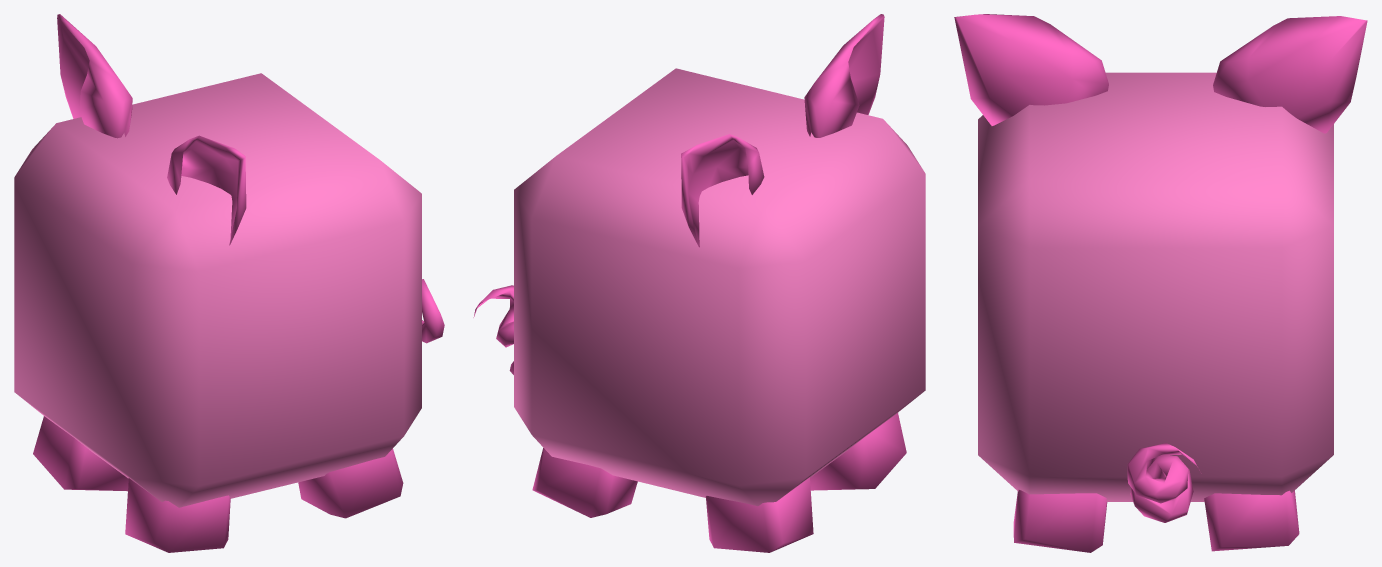
Rendered from PiggyLOW.fbx.
3 views of the same model, side by side, from view 1: azimuth 30°, elevation 25°; view 2: azimuth 150°, elevation 25°; view 3: azimuth 270°, elevation 25° (orthographic). The views are drawn at different scales.
Visible parts, largest first — view 1: Piggy; view 2: Piggy; view 3: Piggy.
Boxes of the visible parts, left/top/right/bottom form: Piggy: left=14, top=14, right=444, bottom=552; Piggy: left=473, top=14, right=925, bottom=552; Piggy: left=954, top=14, right=1367, bottom=552.
Bounding box in the file's own units: 114 × 127 × 105.
